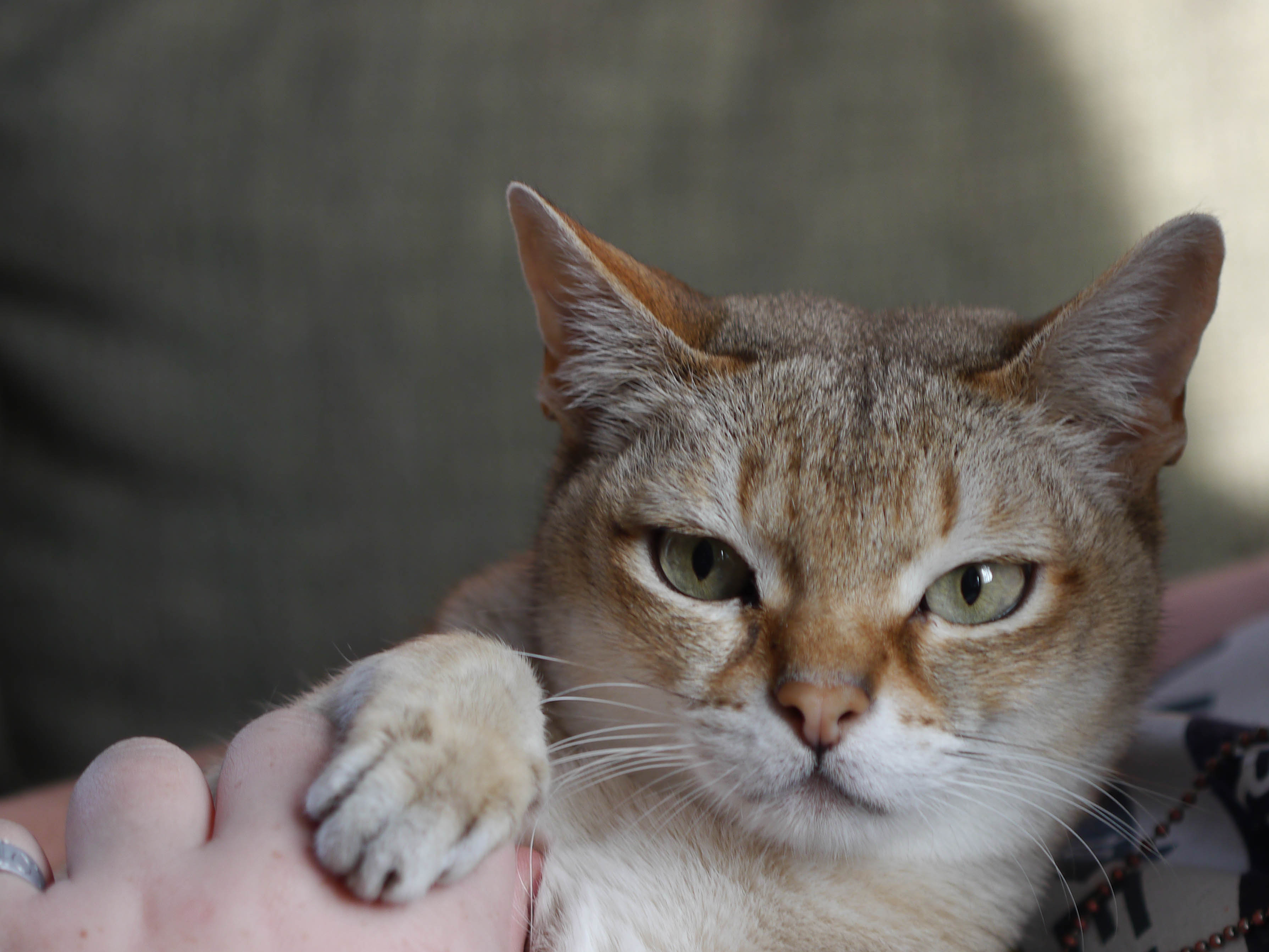cat: (290, 181, 1221, 951)
